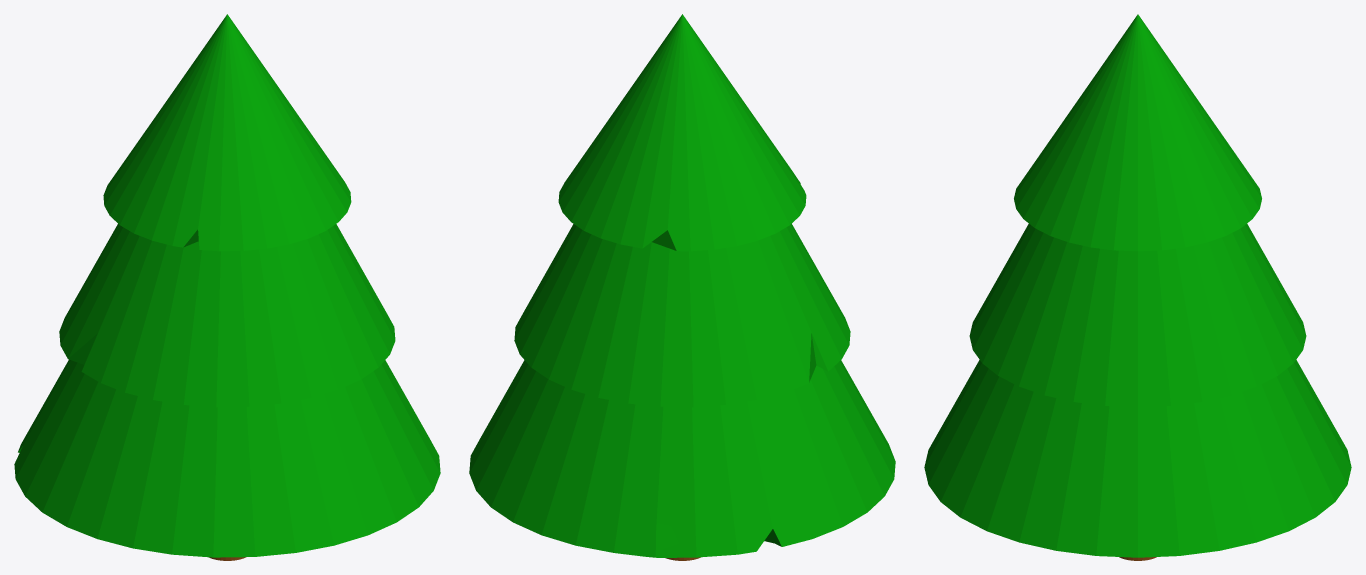
File: pineTree.fbx
3 views of the same model, side by side, from view 1: azimuth 30°, elevation 25°; view 2: azimuth 150°, elevation 25°; view 3: azimuth 270°, elevation 25° (orthographic).
Visible parts, largest first — view 1: Cylinder; view 2: Cylinder; view 3: Cylinder.
Part boxes in pixels (x1,y1,x2,y2): Cylinder: (14, 14, 440, 560); Cylinder: (469, 14, 895, 560); Cylinder: (924, 14, 1351, 560).
Bounding box in the file's own units: 1707 × 2365 × 1707.
